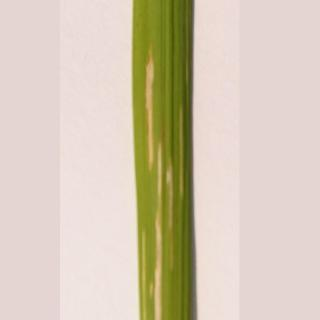Hawar-Daun: (129, 56, 199, 313)
